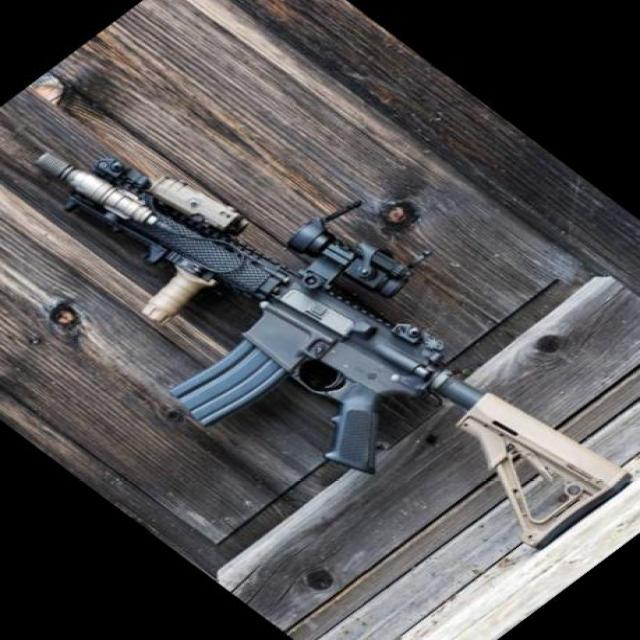heavy-weapon: (31, 151, 632, 551)
